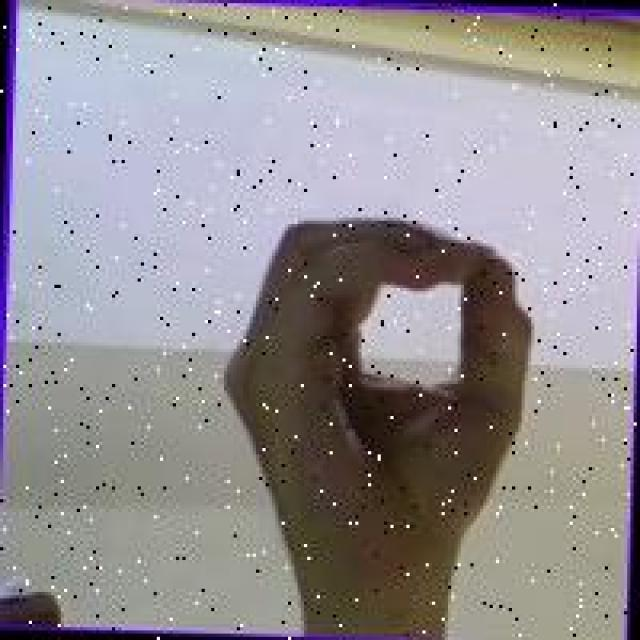O: (214, 206, 544, 549)
